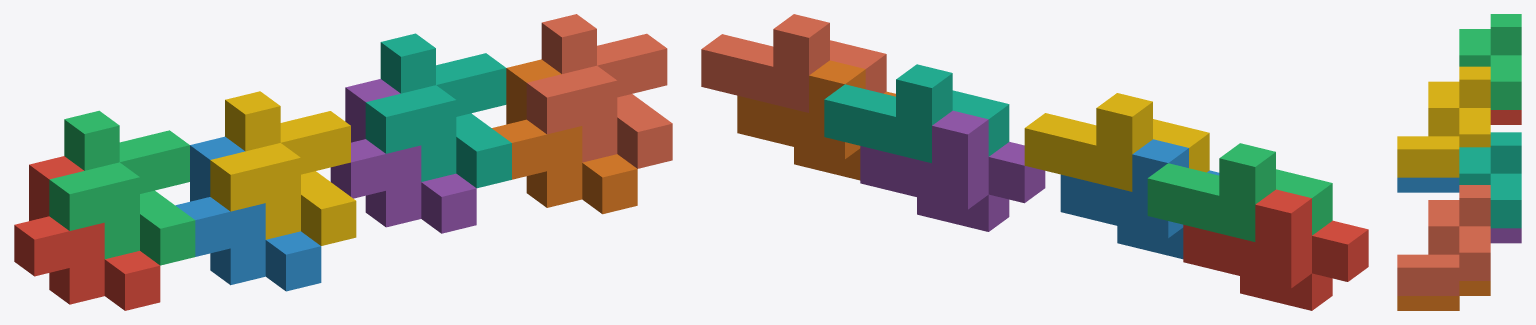
File: tiling.obj
3 views of the same model, side by side, from view 1: azimuth 30°, elevation 25°; view 2: azimuth 150°, elevation 25°; view 3: azimuth 270°, elevation 25° (orthographic). The views are drawn at different scales.
Parts seen in each view (by area): view 1: copy_1_domain_8, copy_1_domain_7, copy_1_domain_3, copy_1_domain_4, copy_1_domain_1, copy_1_domain_5, copy_1_domain_6, copy_1_domain_2; view 2: copy_1_domain_1, copy_1_domain_5, copy_1_domain_7, copy_1_domain_3, copy_1_domain_4, copy_1_domain_8, copy_1_domain_2, copy_1_domain_6; view 3: copy_1_domain_8, copy_1_domain_4, copy_1_domain_7, copy_1_domain_3, copy_1_domain_6, copy_1_domain_2, copy_1_domain_5, copy_1_domain_1.
Part boxes in pixels (x1=…): copy_1_domain_8: x1=526, y1=14, x2=672, y2=168; copy_1_domain_7: x1=365, y1=33, x2=511, y2=188; copy_1_domain_3: x1=49, y1=110, x2=195, y2=265; copy_1_domain_4: x1=210, y1=91, x2=356, y2=245; copy_1_domain_1: x1=14, y1=156, x2=160, y2=310; copy_1_domain_5: x1=330, y1=79, x2=476, y2=233; copy_1_domain_6: x1=492, y1=59, x2=637, y2=214; copy_1_domain_2: x1=175, y1=136, x2=321, y2=291; copy_1_domain_1: x1=1183, y1=189, x2=1368, y2=310; copy_1_domain_5: x1=860, y1=110, x2=1045, y2=231; copy_1_domain_7: x1=824, y1=64, x2=1009, y2=163; copy_1_domain_3: x1=1147, y1=143, x2=1332, y2=241; copy_1_domain_4: x1=1024, y1=93, x2=1209, y2=191; copy_1_domain_8: x1=701, y1=14, x2=886, y2=112; copy_1_domain_2: x1=1060, y1=139, x2=1219, y2=259; copy_1_domain_6: x1=737, y1=60, x2=895, y2=180; copy_1_domain_8: x1=1397, y1=185, x2=1490, y2=295; copy_1_domain_4: x1=1397, y1=66, x2=1490, y2=177; copy_1_domain_7: x1=1459, y1=132, x2=1521, y2=228; copy_1_domain_3: x1=1459, y1=14, x2=1521, y2=109; copy_1_domain_6: x1=1397, y1=281, x2=1490, y2=310; copy_1_domain_2: x1=1397, y1=177, x2=1459, y2=192; copy_1_domain_5: x1=1490, y1=228, x2=1521, y2=243; copy_1_domain_1: x1=1490, y1=110, x2=1521, y2=124.
Size of the model in its own units: 18 by 4 by 4.
